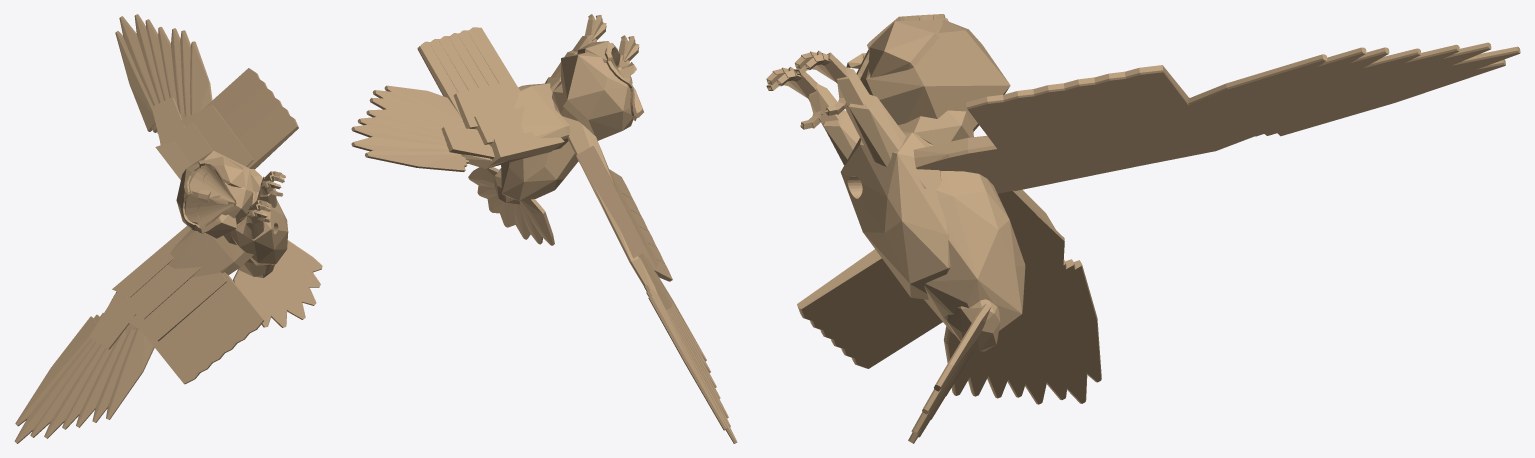
The model's file is night_owls_owl.glb.
3 renders of one model, left to right at view 1: azimuth 30°, elevation 25°; view 2: azimuth 150°, elevation 25°; view 3: azimuth 270°, elevation 25°, orthographic. The views are drawn at different scales.
Parts seen in each view (by area): view 1: Owl; view 2: Owl; view 3: Owl.
Boxes of the visible parts, x1,y1,x2,y2 form: Owl: (14, 14, 322, 443); Owl: (351, 14, 737, 443); Owl: (766, 14, 1520, 443).
Size of the model in its own units: 0.1696 by 0.181 by 0.2127.
